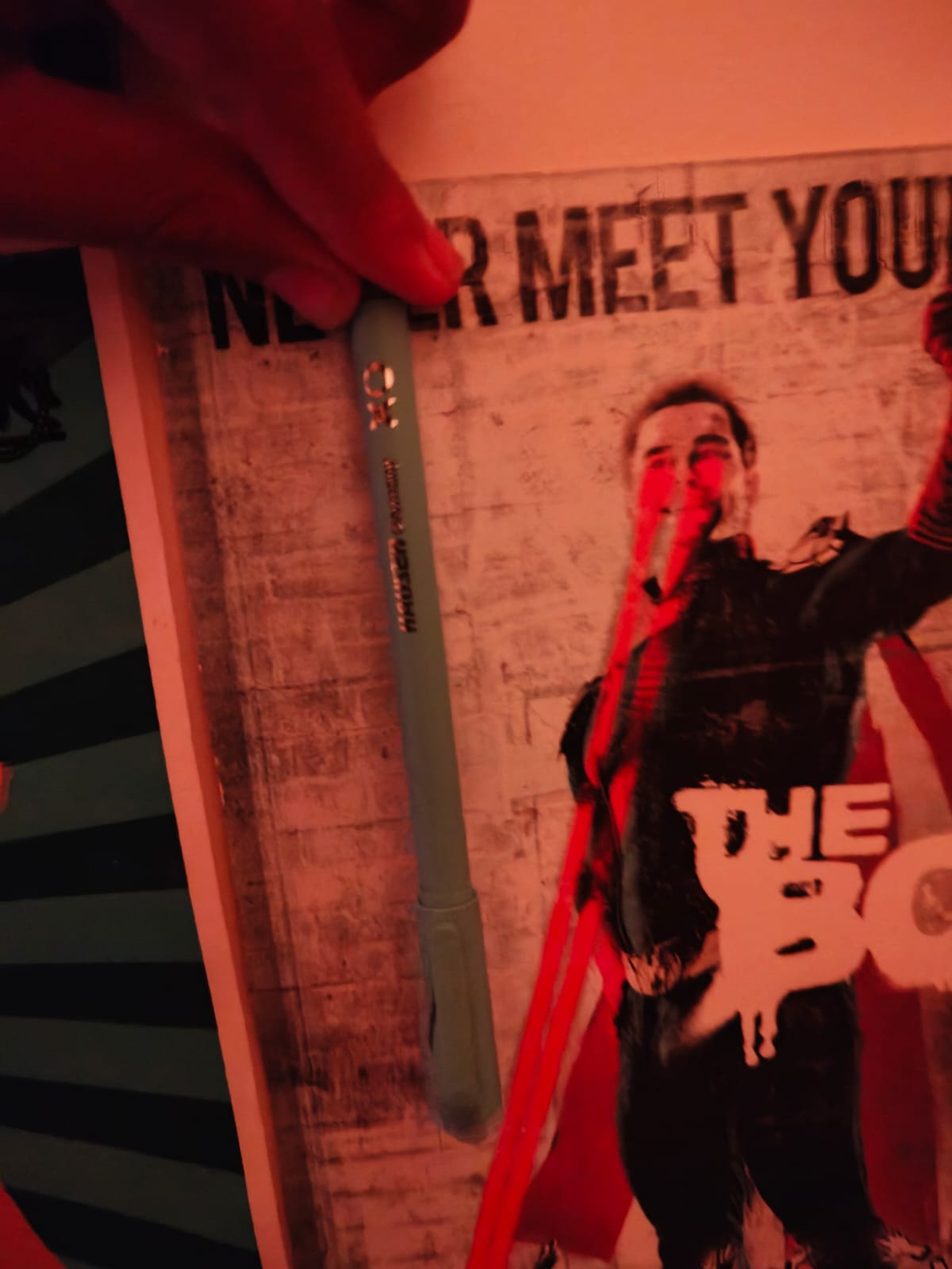pen: (315, 266, 569, 1164)
